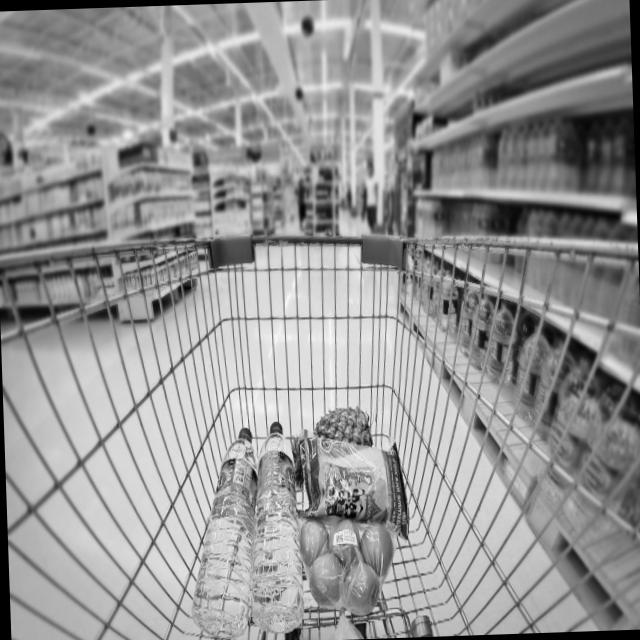dua: (291, 399, 374, 486)
tao: (298, 516, 396, 614)
